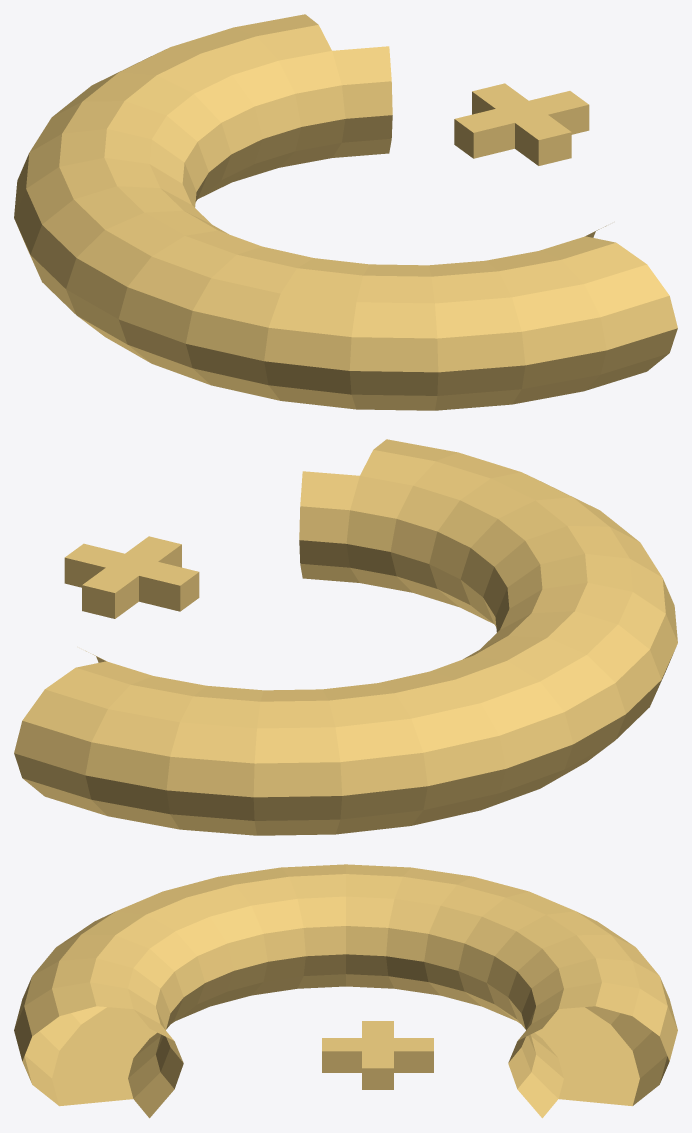
Rendered from charm-moon.glb.
3 renders of one model, top to bottom at view 1: azimuth 30°, elevation 25°; view 2: azimuth 150°, elevation 25°; view 3: azimuth 270°, elevation 25°, orthographic. The views are drawn at different scales.
Parts seen in each view (by area): view 1: charm_moon; view 2: charm_moon; view 3: charm_moon.
Part boxes in pixels (x1=…): charm_moon: x1=14, y1=14, x2=677, y2=410; charm_moon: x1=14, y1=439, x2=677, y2=835; charm_moon: x1=14, y1=864, x2=677, y2=1118.
Bounding box in the file's own units: 0.00645 × 0.00133 × 0.0083.
